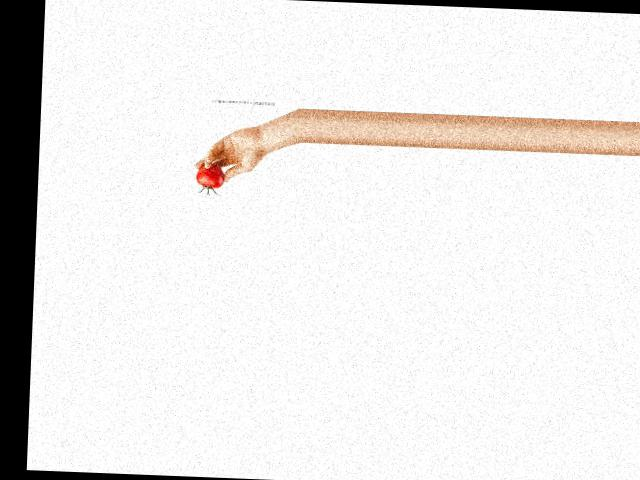tomato: (196, 162, 225, 188)
